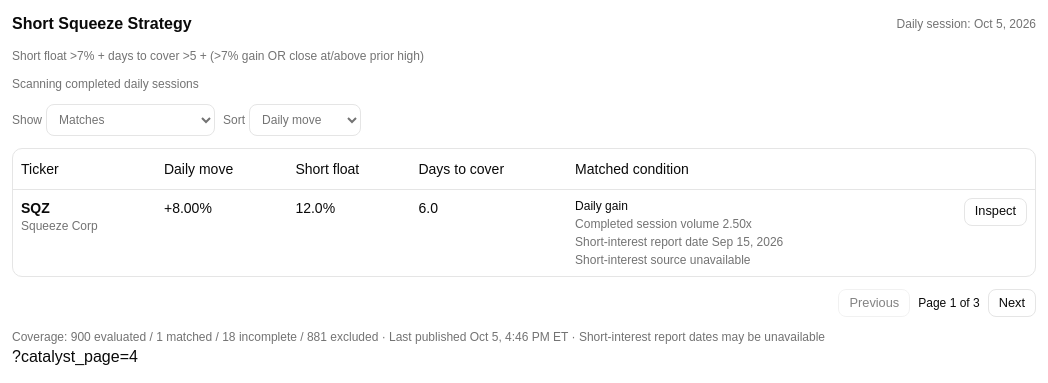
pagination moves the squeeze page alone
Click the button with aria-label "Next short squeeze page" at (1012, 302), box [988,288,1036,316]
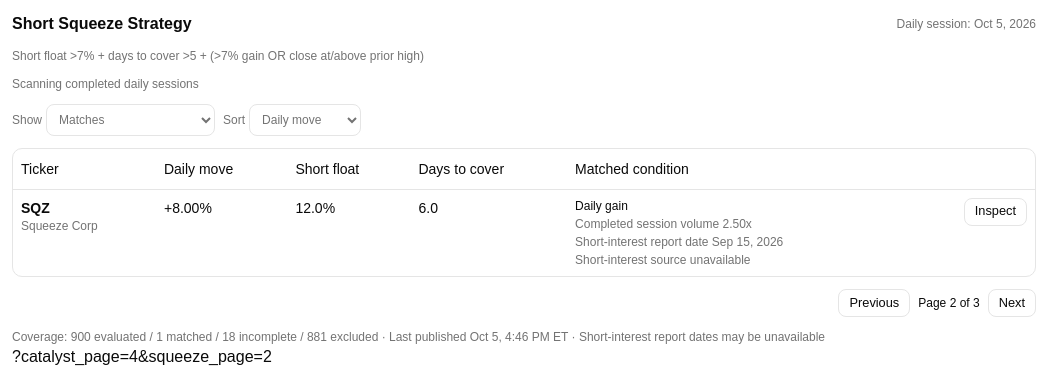
Check: the text with test id "location" shows "catalyst_page=4", box [12,348,272,364]
Check: the text with test id "location" shows "squeeze_page=2", box [12,348,272,364]
